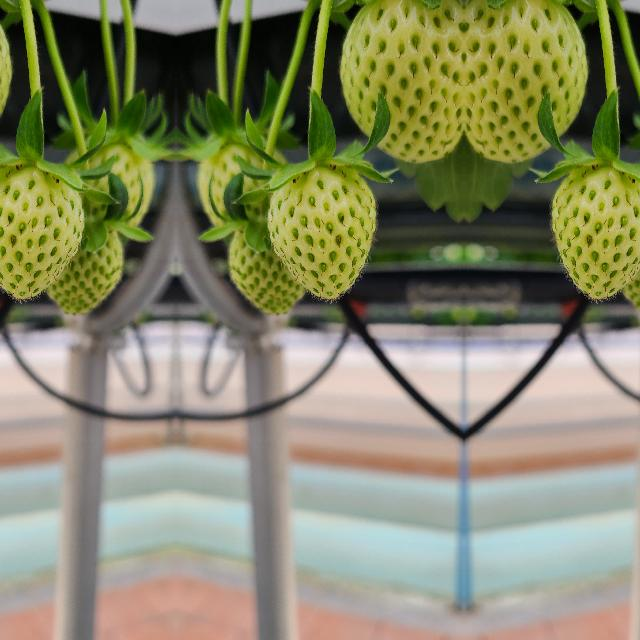Health_25: (266, 166, 374, 300), (552, 166, 640, 299), (0, 166, 84, 299)
